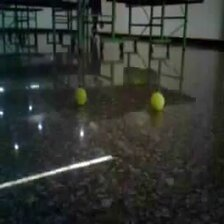tennis: (149, 92, 166, 113), (74, 88, 87, 106)
